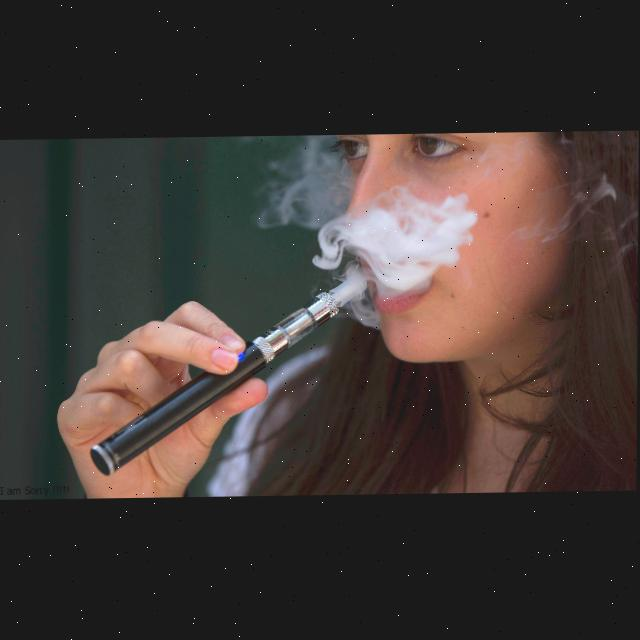vape: (91, 274, 369, 478)
